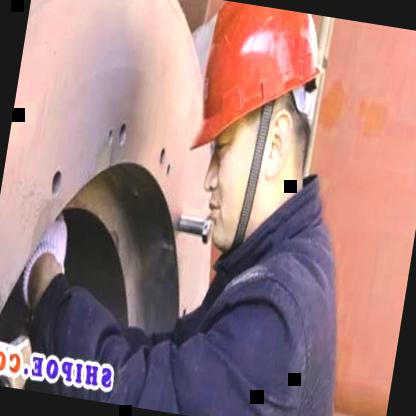helmet: (170, 0, 341, 257)
